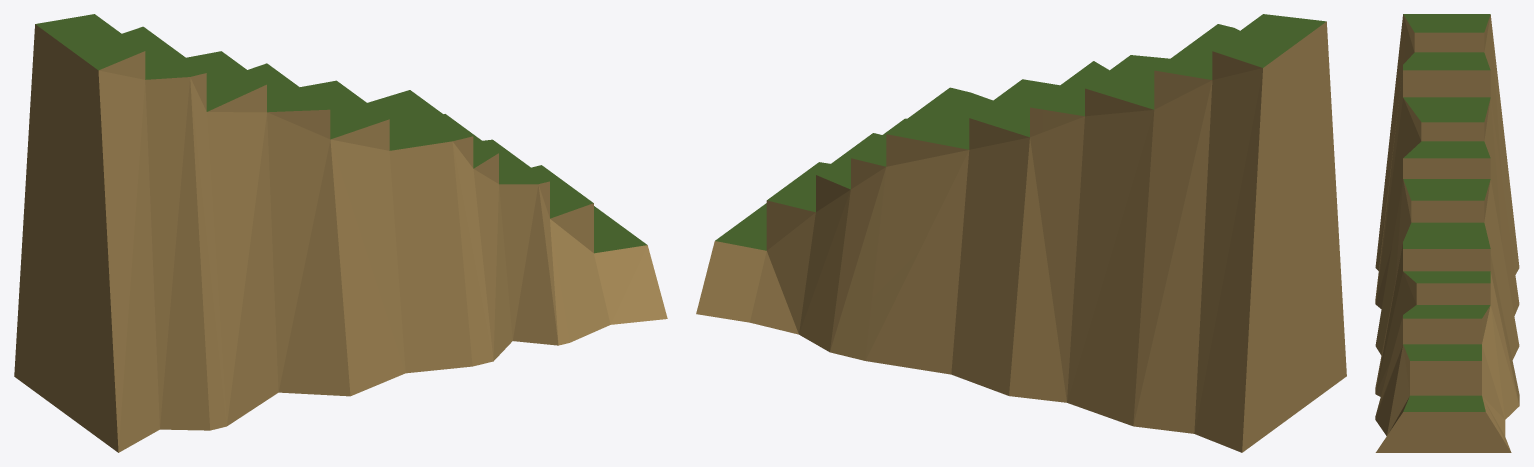
The model's file is Terrain_Modular_Tiles_Grass_Dirt_Stairs_03.fbx.
3 renders of one model, left to right at view 1: azimuth 30°, elevation 25°; view 2: azimuth 150°, elevation 25°; view 3: azimuth 270°, elevation 25°, orthographic. The views are drawn at different scales.
Parts seen in each view (by area): view 1: Terrain_Modular_Tiles_Grass_Dirt_Stairs_03; view 2: Terrain_Modular_Tiles_Grass_Dirt_Stairs_03; view 3: Terrain_Modular_Tiles_Grass_Dirt_Stairs_03.
Part boxes in pixels (bbox=[...]): Terrain_Modular_Tiles_Grass_Dirt_Stairs_03: bbox=[14, 14, 667, 452]; Terrain_Modular_Tiles_Grass_Dirt_Stairs_03: bbox=[696, 14, 1346, 452]; Terrain_Modular_Tiles_Grass_Dirt_Stairs_03: bbox=[1375, 14, 1519, 452].
Bounding box in the file's own units: 3750 × 2400 × 1234.
